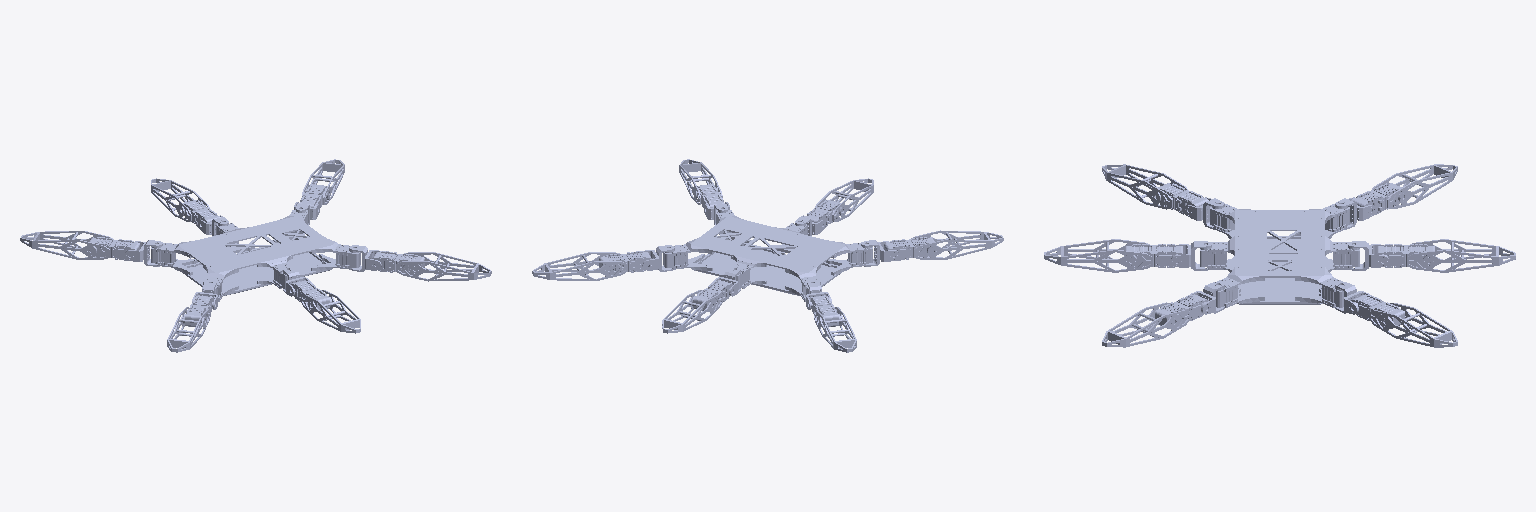
--- Facts derived from the render (not from the file) ---
Views: 3 orthographic renders of the robot side by side, from view 1: azimuth 30°, elevation 25°; view 2: azimuth 150°, elevation 25°; view 3: azimuth 270°, elevation 25°.
Robot: spider_description — 19 links, 18 joints (18 revolute); root link base_link; default pose: all joints at 0.
Links seen in each view (by area): view 1: base_link, link_tibia_rf, link_tibia_lr, link_tibia_rm, link_tibia_lm, link_tibia_rr, link_tibia_lf, link_thigh_lr, link_thigh_rf, link_thigh_rm, link_thigh_rr; view 2: base_link, link_tibia_lf, link_tibia_rr, link_tibia_lm, link_tibia_rm, link_tibia_lr, link_tibia_rf, link_thigh_rr, link_thigh_lf, link_thigh_lm; view 3: base_link, link_tibia_rm, link_tibia_lm, link_tibia_lf, link_tibia_rf, link_tibia_lr, link_tibia_rr, link_thigh_lm, link_thigh_rm, link_thigh_lf, link_thigh_rf, link_thigh_rr (+5 smaller).
Link boxes in pixels (x1,y1,x2,y2): base_link: (151,210,360,301); link_tibia_rf: (396,252,491,281); link_tibia_lr: (20,231,112,259); link_tibia_rm: (301,290,360,333); link_tibia_lm: (151,178,209,221); link_tibia_rr: (167,307,210,352); link_tibia_lf: (302,159,344,204); link_thigh_lr: (87,237,139,260); link_thigh_rf: (372,251,424,274); link_thigh_rm: (291,280,331,310); link_thigh_rr: (183,295,213,326); base_link: (663,210,872,301); link_tibia_lf: (532,252,627,280); link_tibia_rr: (911,230,1003,259); link_tibia_lm: (662,290,722,333); link_tibia_rm: (815,178,873,221); link_tibia_lr: (814,307,856,352); link_tibia_rf: (679,159,722,204); link_thigh_rr: (884,237,936,260); link_thigh_lf: (599,251,651,274); link_thigh_lm: (692,280,732,311); base_link: (1200,204,1359,307); link_tibia_rm: (1044,239,1152,272); link_tibia_lm: (1407,239,1515,272); link_tibia_lf: (1369,303,1457,347); link_tibia_rf: (1102,302,1190,347); link_tibia_lr: (1371,164,1457,208); link_tibia_rr: (1102,164,1188,209); link_thigh_lm: (1377,244,1434,267); link_thigh_rm: (1125,244,1182,267); link_thigh_lf: (1351,294,1404,328); link_thigh_rf: (1155,294,1208,328); link_thigh_rr: (1156,183,1208,215).
Size in the robot's own frame: 0.7578 by 0.843 by 0.057 metres.
Meshes: 19 distinct files referenced, 19 mesh visuals loaded (19 binary STL).

robot.urdf — spider_description:
<?xml version="1.0" encoding="utf-8"?>
<!-- This URDF was automatically created by SolidWorks to URDF Exporter! Originally created by Stephen Brawner ([email redacted]) 
     Commit Version: 1.6.0-1-g15f4949  Build Version: 1.6.7594.29634
     For more information, please see http://wiki.ros.org/sw_urdf_exporter -->
<robot
  name="spider_description">
  <link
    name="base_link">
    <inertial>
      <origin
        xyz="-0.00053062 -0.00014671 -0.024203"
        rpy="0 0 0" />
      <mass
        value="0.61161" />
      <inertia
        ixx="0.0045478"
        ixy="-5.8546E-07"
        ixz="5.8091E-06"
        iyy="0.0078405"
        iyz="1.6098E-06"
        izz="0.012139" />
    </inertial>
    <visual>
      <origin
        xyz="0 0 0"
        rpy="0 0 0" />
      <geometry>
        <mesh
          filename="package://spider_description/meshes/base_link.STL" />
      </geometry>
      <material
        name="">
        <color
          rgba="0.79216 0.81961 0.93333 1" />
      </material>
    </visual>
    <collision>
      <origin
        xyz="0 0 0"
        rpy="0 0 0" />
      <geometry>
        <mesh
          filename="package://spider_description/meshes/base_link.STL" />
      </geometry>
    </collision>
  </link>
  <link
    name="link_c1_lf">
    <inertial>
      <origin
        xyz="0.026 -5.4857E-07 -0.023899"
        rpy="0 0 0" />
      <mass
        value="0.020733" />
      <inertia
        ixx="7.1297E-06"
        ixy="4.048E-11"
        ixz="4.2078E-11"
        iyy="7.0574E-06"
        iyz="-7.4454E-15"
        izz="7.0574E-06" />
    </inertial>
    <visual>
      <origin
        xyz="0 0 0"
        rpy="0 0 0" />
      <geometry>
        <mesh
          filename="package://spider_description/meshes/link_c1_lf.STL" />
      </geometry>
      <material
        name="">
        <color
          rgba="0.79216 0.81961 0.93333 1" />
      </material>
    </visual>
    <collision>
      <origin
        xyz="0 0 0"
        rpy="0 0 0" />
      <geometry>
        <mesh
          filename="package://spider_description/meshes/link_c1_lf.STL" />
      </geometry>
    </collision>
  </link>
  <joint
    name="j_c1_lf"
    type="revolute">
    <origin
      xyz="0.17005 0.11005 0"
      rpy="0 0 0.7854" />
    <parent
      link="base_link" />
    <child
      link="link_c1_lf" />
    <axis
      xyz="0 0 -1" />
    <limit
      lower="-3.1416"
      upper="3.1416"
      effort="6.0"
      velocity="0.524" />
  </joint>
  <link
    name="link_thigh_lf">
    <inertial>
      <origin
        xyz="0.041 -4.7333E-08 -0.024854"
        rpy="0 0 0" />
      <mass
        value="0.095338" />
      <inertia
        ixx="1.5823E-05"
        ixy="-7.1837E-09"
        ixz="2.4429E-07"
        iyy="9.7493E-05"
        iyz="1.7728E-11"
        izz="9.2466E-05" />
    </inertial>
    <visual>
      <origin
        xyz="0 0 0"
        rpy="0 0 0" />
      <geometry>
        <mesh
          filename="package://spider_description/meshes/link_thigh_lf.STL" />
      </geometry>
      <material
        name="">
        <color
          rgba="0.79216 0.81961 0.93333 1" />
      </material>
    </visual>
    <collision>
      <origin
        xyz="0 0 0"
        rpy="0 0 0" />
      <geometry>
        <mesh
          filename="package://spider_description/meshes/link_thigh_lf.STL" />
      </geometry>
    </collision>
  </link>
  <joint
    name="j_thigh_lf"
    type="revolute">
    <origin
      xyz="0.052 0.0239 -0.0239"
      rpy="-1.5708 0 0" />
    <parent
      link="link_c1_lf" />
    <child
      link="link_thigh_lf" />
    <axis
      xyz="0 0 -1" />
    <limit
      lower="-3.1416"
      upper="3.1416"
      effort="6.0"
      velocity="0.524" />
  </joint>
  <link
    name="link_tibia_lf">
    <inertial>
      <origin
        xyz="0.058213 4.8413E-07 -0.02399"
        rpy="0 0 0" />
      <mass
        value="0.027469" />
      <inertia
        ixx="1.3791E-05"
        ixy="-1.8639E-09"
        ixz="2.7079E-09"
        iyy="8.6758E-05"
        iyz="1.5216E-13"
        izz="7.8702E-05" />
    </inertial>
    <visual>
      <origin
        xyz="0 0 0"
        rpy="0 0 0" />
      <geometry>
        <mesh
          filename="package://spider_description/meshes/link_tibia_lf.STL" />
      </geometry>
      <material
        name="">
        <color
          rgba="0.79216 0.81961 0.93333 1" />
      </material>
    </visual>
    <collision>
      <origin
        xyz="0 0 0"
        rpy="0 0 0" />
      <geometry>
        <mesh
          filename="package://spider_description/meshes/link_tibia_lf.STL" />
      </geometry>
    </collision>
  </link>
  <joint
    name="j_tibia_lf"
    type="revolute">
    <origin
      xyz="0.082 0 0"
      rpy="0 0 0" />
    <parent
      link="link_thigh_lf" />
    <child
      link="link_tibia_lf" />
    <axis
      xyz="0 0 -1" />
    <limit
      lower="-3.1416"
      upper="3.1416"
      effort="6.0"
      velocity="0.524" />
  </joint>
  <transmission name="t_c1_lf">
    <type>transmission_interface/SimpleTransmission</type>
    <joint name="j_c1_lf">
      <hardwareInterface>EffortJointInterface</hardwareInterface>
    </joint>
    <actuator name="m_c1_lf">
      <hardwareInterface>EffortJointInterface</hardwareInterface>
      <mechanicalReduction>1</mechanicalReduction>
    </actuator>
  </transmission>
  <transmission name="t_thigh_lf">
    <type>transmission_interface/SimpleTransmission</type>
    <joint name="j_thigh_lf">
      <hardwareInterface>EffortJointInterface</hardwareInterface>
    </joint>
    <actuator name="m_thigh_lf">
      <hardwareInterface>EffortJointInterface</hardwareInterface>
      <mechanicalReduction>1</mechanicalReduction>
    </actuator>
  </transmission>
  <transmission name="t_tibia_lf">
    <type>transmission_interface/SimpleTransmission</type>
    <joint name="j_tibia_lf">
      <hardwareInterface>EffortJointInterface</hardwareInterface>
    </joint>
    <actuator name="m_tibia_lf">
      <hardwareInterface>EffortJointInterface</hardwareInterface>
      <mechanicalReduction>1</mechanicalReduction>
    </actuator>
  </transmission>
  <gazebo reference="c1_lf">
    <material>Gazebo/Grey</material>
  </gazebo>
  <gazebo reference="c2_lf">
    <material>Gazebo/Grey</material>
  </gazebo>
  <gazebo reference="thigh_lf">
    <material>Gazebo/Grey</material>
  </gazebo>
  <gazebo reference="tibia_lf">
    <material>Gazebo/Grey</material>
  </gazebo>
  <link
    name="link_c1_rf">
    <inertial>
      <origin
        xyz="0.0259999991636716 -5.48568285324569E-07 -0.0238994498902422"
        rpy="0 0 0" />
      <mass
        value="0.0207333939617732" />
      <inertia
        ixx="7.12966880670212E-06"
        ixy="4.04797875409359E-11"
        ixz="4.2078214365996E-11"
        iyy="7.05736504437159E-06"
        iyz="-7.44539482746889E-15"
        izz="7.05736451070848E-06" />
    </inertial>
    <visual>
      <origin
        xyz="0 0 0"
        rpy="0 0 0" />
      <geometry>
        <mesh
          filename="package://spider_description/meshes/link_c1_rf.STL" />
      </geometry>
      <material
        name="">
        <color
          rgba="0.792156862745098 0.819607843137255 0.933333333333333 1" />
      </material>
    </visual>
    <collision>
      <origin
        xyz="0 0 0"
        rpy="0 0 0" />
      <geometry>
        <mesh
          filename="package://spider_description/meshes/link_c1_rf.STL" />
      </geometry>
    </collision>
  </link>
  <joint
    name="j_c1_rf"
    type="revolute">
    <origin
      xyz="0.17005 -0.11005 0"
      rpy="0 0 -0.7854" />
    <parent
      link="base_link" />
    <child
      link="link_c1_rf" />
    <axis
      xyz="0 0 -1" />
    <limit
      lower="-3.1416"
      upper="3.1416"
      effort="6.0"
      velocity="0.524" />
  </joint>
  <link
    name="link_thigh_rf">
    <inertial>
      <origin
        xyz="0.0409997696348333 -4.3056425345217E-08 -0.0231455246052306"
        rpy="0 0 0" />
      <mass
        value="0.0953381260778559" />
      <inertia
        ixx="1.58226170665815E-05"
        ixy="7.18370529304474E-09"
        ixz="2.44292690517656E-07"
        iyy="9.74932251034422E-05"
        iyz="-1.77281106948335E-11"
        izz="9.24662892922228E-05" />
    </inertial>
    <visual>
      <origin
        xyz="0 0 0"
        rpy="0 0 0" />
      <geometry>
        <mesh
          filename="package://spider_description/meshes/link_thigh_rf.STL" />
      </geometry>
      <material
        name="">
        <color
          rgba="0.792156862745098 0.819607843137255 0.933333333333333 1" />
      </material>
    </visual>
    <collision>
      <origin
        xyz="0 0 0"
        rpy="0 0 0" />
      <geometry>
        <mesh
          filename="package://spider_description/meshes/link_thigh_rf.STL" />
      </geometry>
    </collision>
  </link>
  <joint
    name="j_thigh_rf"
    type="revolute">
    <origin
      xyz="0.052 0.0239 -0.0239"
      rpy="-1.5708 0 0" />
    <parent
      link="link_c1_rf" />
    <child
      link="link_thigh_rf" />
    <axis
      xyz="0 0 1" />
    <limit
      lower="-3.1416"
      upper="3.1416"
      effort="6.0"
      velocity="0.524" />
  </joint>
  <link
    name="link_tibia_rf">
    <inertial>
      <origin
        xyz="0.0582130928710537 -4.84132053089198E-07 -0.024009755089485"
        rpy="0 0 0" />
      <mass
        value="0.0274685501932794" />
      <inertia
        ixx="1.37907568518751E-05"
        ixy="1.86386884762247E-09"
        ixz="-2.70792447943625E-09"
        iyy="8.67578889959421E-05"
        iyz="1.52160813279096E-13"
        izz="7.87024641434508E-05" />
    </inertial>
    <visual>
      <origin
        xyz="0 0 0"
        rpy="0 0 0" />
      <geometry>
        <mesh
          filename="package://spider_description/meshes/link_tibia_rf.STL" />
      </geometry>
      <material
        name="">
        <color
          rgba="0.792156862745098 0.819607843137255 0.933333333333333 1" />
      </material>
    </visual>
    <collision>
      <origin
        xyz="0 0 0"
        rpy="0 0 0" />
      <geometry>
        <mesh
          filename="package://spider_description/meshes/link_tibia_rf.STL" />
      </geometry>
    </collision>
  </link>
  <joint
    name="j_tibia_rf"
    type="revolute">
    <origin
      xyz="0.082 0 -0.0002"
      rpy="0 0 0" />
    <parent
      link="link_thigh_rf" />
    <child
      link="link_tibia_rf" />
    <axis
      xyz="0 0 1" />
    <limit
      lower="-3.1416"
      upper="3.1416"
      effort="6.0"
      velocity="0.524" />
  </joint>
  <transmission name="t_c1_rf">
    <type>transmission_interface/SimpleTransmission</type>
    <joint name="j_c1_rf">
      <hardwareInterface>EffortJointInterface</hardwareInterface>
    </joint>
    <actuator name="m_c1_rf">
      <hardwareInterface>EffortJointInterface</hardwareInterface>
      <mechanicalReduction>1</mechanicalReduction>
    </actuator>
  </transmission>
  <transmission name="t_thigh_rf">
    <type>transmission_interface/SimpleTransmission</type>
    <joint name="j_thigh_rf">
      <hardwareInterface>EffortJointInterface</hardwareInterface>
    </joint>
    <actuator name="m_thigh_rf">
      <hardwareInterface>EffortJointInterface</hardwareInterface>
      <mechanicalReduction>1</mechanicalReduction>
    </actuator>
  </transmission>
  <transmission name="t_tibia_rf">
    <type>transmission_interface/SimpleTransmission</type>
    <joint name="j_tibia_rf">
      <hardwareInterface>EffortJointInterface</hardwareInterface>
    </joint>
    <actuator name="m_tibia_rf">
      <hardwareInterface>EffortJointInterface</hardwareInterface>
      <mechanicalReduction>1</mechanicalReduction>
    </actuator>
  </transmission>
  <gazebo reference="c1_rf">
    <material>Gazebo/Grey</material>
  </gazebo>
  <gazebo reference="c2_rf">
    <material>Gazebo/Grey</material>
  </gazebo>
  <gazebo reference="thigh_rf">
    <material>Gazebo/Grey</material>
  </gazebo>
  <gazebo reference="tibia_rf">
    <material>Gazebo/Grey</material>
  </gazebo>
  <link
    name="link_c1_lm">
    <inertial>
      <origin
        xyz="0.0259999991636717 -5.48568285352324E-07 -0.0238994498902422"
        rpy="0 0 0" />
      <mass
        value="0.0207333939617732" />
      <inertia
        ixx="7.12966880670212E-06"
        ixy="4.04797875473618E-11"
        ixz="4.20782143633671E-11"
        iyy="7.05736504437159E-06"
        iyz="-7.44539705232163E-15"
        izz="7.0573645107085E-06" />
    </inertial>
    <visual>
      <origin
        xyz="0 0 0"
        rpy="0 0 0" />
      <geometry>
        <mesh
          filename="package://spider_description/meshes/link_c1_lm.STL" />
      </geometry>
      <material
        name="">
        <color
          rgba="0.792156862745098 0.819607843137255 0.933333333333333 1" />
      </material>
    </visual>
    <collision>
      <origin
        xyz="0 0 0"
        rpy="0 0 0" />
      <geometry>
        <mesh
          filename="package://spider_description/meshes/link_c1_lm.STL" />
      </geometry>
    </collision>
  </link>
  <joint
    name="j_c1_lm"
    type="revolute">
    <origin
      xyz="0 0.1325 0"
      rpy="0 0 1.5708" />
    <parent
      link="base_link" />
    <child
      link="link_c1_lm" />
    <axis
      xyz="0 0 -1" />
    <limit
      lower="-3.1416"
      upper="3.1416"
      effort="6.0"
      velocity="0.524" />
  </joint>
  <link
    name="link_thigh_lm">
    <inertial>
      <origin
        xyz="0.0410002223045077 -4.73332562624107E-08 -0.0248544734829103"
        rpy="0 0 0" />
      <mass
        value="0.095338126082866" />
      <inertia
        ixx="1.58226170677638E-05"
        ixy="-7.18370555418024E-09"
        ixz="2.44292690526641E-07"
        iyy="9.74932251095805E-05"
        iyz="1.77281110395446E-11"
        izz="9.24662892972621E-05" />
    </inertial>
    <visual>
      <origin
        xyz="0 0 0"
        rpy="0 0 0" />
      <geometry>
        <mesh
          filename="package://spider_description/meshes/link_thigh_lm.STL" />
      </geometry>
      <material
        name="">
        <color
          rgba="0.792156862745098 0.819607843137255 0.933333333333333 1" />
      </material>
    </visual>
    <collision>
      <origin
        xyz="0 0 0"
        rpy="0 0 0" />
      <geometry>
        <mesh
          filename="package://spider_description/meshes/link_thigh_lm.STL" />
      </geometry>
    </collision>
  </link>
  <joint
    name="j_thigh_lm"
    type="revolute">
    <origin
      xyz="0.052 0.0239 -0.0239"
      rpy="-1.5708 0 0" />
    <parent
      link="link_c1_lm" />
    <child
      link="link_thigh_lm" />
    <axis
      xyz="0 0 -1" />
    <limit
      lower="-3.1416"
      upper="3.1416"
      effort="6.0"
      velocity="0.524" />
  </joint>
  <link
    name="link_tibia_lm">
    <inertial>
      <origin
        xyz="0.0582130929481516 4.84132050920794E-07 -0.0239902443725242"
        rpy="0 0 0" />
      <mass
        value="0.0274685503185618" />
      <inertia
        ixx="1.3790756868961E-05"
        ixy="-1.86386884665518E-09"
        ixz="2.70791984156504E-09"
        iyy="8.67578890897643E-05"
        iyz="1.52161124450007E-13"
        izz="7.87024642322845E-05" />
    </inertial>
    <visual>
      <origin
        xyz="0 0 0"
        rpy="0 0 0" />
      <geometry>
        <mesh
          filename="package://spider_description/meshes/link_tibia_lm.STL" />
      </geometry>
      <material
        name="">
        <color
          rgba="0.792156862745098 0.819607843137255 0.933333333333333 1" />
      </material>
    </visual>
    <collision>
      <origin
        xyz="0 0 0"
        rpy="0 0 0" />
      <geometry>
        <mesh
          filename="package://spider_description/meshes/link_tibia_lm.STL" />
      </geometry>
    </collision>
  </link>
  <joint
    name="j_tibia_lm"
    type="revolute">
    <origin
      xyz="0.082 0 0"
      rpy="0 0 0" />
    <parent
      link="link_thigh_lm" />
    <child
      link="link_tibia_lm" />
    <axis
      xyz="0 0 -1" />
    <limit
      lower="-3.1416"
      upper="3.1416"
      effort="6.0"
      velocity="0.524" />
  </joint>
  <transmission name="t_c1_lm">
    <type>transmission_interface/SimpleTransmission</type>
    <joint name="j_c1_lm">
      <hardwareInterface>EffortJointInterface</hardwareInterface>
    </joint>
    <actuator name="m_c1_lm">
      <hardwareInterface>EffortJointInterface</hardwareInterface>
      <mechanicalReduction>1</mechanicalReduction>
    </actuator>
  </transmission>
  <transmission name="t_thigh_lm">
    <type>transmission_interface/SimpleTransmission</type>
    <joint name="j_thigh_lm">
      <hardwareInterface>EffortJointInterface</hardwareInterface>
    </joint>
    <actuator name="m_thigh_lm">
      <hardwareInterface>EffortJointInterface</hardwareInterface>
      <mechanicalReduction>1</mechanicalReduction>
    </actuator>
  </transmission>
  <transmission name="t_tibia_lm">
    <type>transmission_interface/SimpleTransmission</type>
    <joint name="j_tibia_lm">
      <hardwareInterface>EffortJointInterface</hardwareInterface>
    </joint>
    <actuator name="m_tibia_lm">
      <hardwareInterface>EffortJointInterface</hardwareInterface>
      <mechanicalReduction>1</mechanicalReduction>
    </actuator>
  </transmission>
  <gazebo reference="c1_lm">
    <material>Gazebo/Grey</material>
  </gazebo>
  <gazebo reference="c2_lm">
    <material>Gazebo/Grey</material>
  </gazebo>
  <gazebo reference="thigh_lm">
    <material>Gazebo/Grey</material>
  </gazebo>
  <gazebo reference="tibia_lm">
    <material>Gazebo/Grey</material>
  </gazebo>
  <link
    name="link_c1_rm">
    <inertial>
      <origin
        xyz="0.0259999991636717 -5.48568285324569E-07 -0.0238994498902422"
        rpy="0 0 0" />
      <mass
        value="0.0207333939617732" />
      <inertia
        ixx="7.12966880670213E-06"
        ixy="4.04797875448088E-11"
        ixz="4.20782143673133E-11"
        iyy="7.0573650443716E-06"
        iyz="-7.44539871417393E-15"
        izz="7.05736451070851E-06" />
    </inertial>
    <visual>
      <origin
        xyz="0 0 0"
        rpy="0 0 0" />
      <geometry>
        <mesh
          filename="package://spider_description/meshes/link_c1_rm.STL" />
      </geometry>
      <material
        name="">
        <color
          rgba="0.792156862745098 0.819607843137255 0.933333333333333 1" />
      </material>
    </visual>
    <collision>
      <origin
        xyz="0 0 0"
        rpy="0 0 0" />
      <geometry>
        <mesh
          filename="package://spider_description/meshes/link_c1_rm.STL" />
      </geometry>
    </collision>
  </link>
  <joint
    name="j_c1_rm"
    type="revolute">
    <origin
      xyz="0 -0.1325 0"
      rpy="0 0 -1.5708" />
    <parent
      link="base_link" />
    <child
      link="link_c1_rm" />
    <axis
      xyz="0 0 -1" />
    <limit
      lower="-3.1416"
      upper="3.1416"
      effort="6.0"
      velocity="0.524" />
  </joint>
  <link
    name="link_thigh_rm">
    <inertial>
      <origin
        xyz="0.0409997696348329 -4.30564251890919E-08 -0.0231455246060158"
        rpy="0 0 0" />
      <mass
        value="0.0953381260828659" />
      <inertia
        ixx="1.58226170677638E-05"
        ixy="7.18370555416456E-09"
        ixz="2.44292690526653E-07"
        iyy="9.74932251095806E-05"
        iyz="-1.77281110386843E-11"
        izz="9.24662892972621E-05" />
    </inertial>
    <visual>
      <origin
        xyz="0 0 0"
        rpy="0 0 0" />
      <geometry>
        <mesh
          filename="package://spider_description/meshes/link_thigh_rm.STL" />
      </geometry>
      <material
        name="">
        <color
          rgba="0.792156862745098 0.819607843137255 0.933333333333333 1" />
      </material>
    </visual>
    <collision>
      <origin
        xyz="0 0 0"
        rpy="0 0 0" />
      <geometry>
        <mesh
          filename="package://spider_description/meshes/link_thigh_rm.STL" />
      </geometry>
    </collision>
  </link>
  <joint
    name="j_thigh_rm"
    type="revolute">
    <origin
      xyz="0.052 0.0239 -0.0239"
      rpy="-1.5708 0 0" />
    <parent
      link="link_c1_rm" />
    <child
      link="link_thigh_rm" />
    <axis
      xyz="0 0 1" />
    <limit
      lower="-3.1416"
      upper="3.1416"
      effort="6.0"
      velocity="0.524" />
  </joint>
  <link
    name="link_tibia_rm">
    <inertial>
      <origin
        xyz="0.0582130929481518 -4.84132050920794E-07 -0.0240097551133858"
        rpy="0 0 0" />
      <mass
        value="0.0274685503185618" />
      <inertia
        ixx="1.3790756868961E-05"
        ixy="1.86386884667144E-09"
        ixz="-2.70791984154495E-09"
        iyy="8.67578890897645E-05"
        iyz="1.52161123538455E-13"
        izz="7.87024642322847E-05" />
    </inertial>
    <visual>
      <origin
        xyz="0 0 0"
        rpy="0 0 0" />
      <geometry>
        <mesh
          filename="package://spider_description/meshes/link_tibia_rm.STL" />
      </geometry>
      <material
        name="">
        <color
          rgba="0.792156862745098 0.819607843137255 0.933333333333333 1" />
      </material>
    </visual>
    <collision>
      <origin
        xyz="0 0 0"
        rpy="0 0 0" />
      <geometry>
        <mesh
          filename="package://spider_description/meshes/link_tibia_rm.STL" />
      </geometry>
    </collision>
  </link>
  <joint
    name="j_tibia_rm"
    type="revolute">
    <origin
      xyz="0.082 0 -0.0002"
      rpy="0 0 0" />
    <parent
      link="link_thigh_rm" />
    <child
      link="link_tibia_rm" />
    <axis
      xyz="0 0 1" />
    <limit
      lower="-3.1416"
      upper="3.1416"
      effort="6.0"
      velocity="0.524" />
  </joint>
  <transmission name="t_c1_rm">
    <type>transmission_interface/SimpleTransmission</type>
    <joint name="j_c1_rm">
      <hardwareInterface>EffortJointInterface</hardwareInterface>
    </joint>
    <actuator name="m_c1_rm">
      <hardwareInterface>EffortJointInterface</hardwareInterface>
      <mechanicalReduction>1</mechanicalReduction>
    </actuator>
  </transmission>
  <transmission name="t_thigh_rm">
    <type>transmission_interface/SimpleTransmission</type>
    <joint name="j_thigh_rm">
      <hardwareInterface>EffortJointInterface</hardwareInterface>
    </joint>
    <actuator name="m_thigh_rm">
      <hardwareInterface>EffortJointInterface</hardwareInterface>
      <mechanicalReduction>1</mechanicalReduction>
    </actuator>
  </transmission>
  <transmission name="t_tibia_rm">
    <type>transmission_interface/SimpleTransmission</type>
    <joint name="j_tibia_rm">
      <hardwareInterface>EffortJointInterface</hardwareInterface>
    </joint>
    <actuator name="m_tibia_rm">
      <hardwareInterface>EffortJointInterface</hardwareInterface>
      <mechanicalReduction>1</mechanicalReduction>
    </actuator>
  </transmission>
  <gazebo reference="c1_rm">
    <material>Gazebo/Grey</material>
  </gazebo>
  <gazebo reference="c2_rm">
    <material>Gazebo/Grey</material>
  </gazebo>
  <gazebo reference="thigh_rm">
    <material>Gazebo/Grey</material>
  </gazebo>
  <gazebo reference="tibia_rm">
    <material>Gazebo/Grey</material>
  </gazebo>
  <link
    name="link_c1_lr">
    <inertial>
      <origin
        xyz="0.0259999991636717 -5.48568285296813E-07 -0.0238994498902422"
        rpy="0 0 0" />
      <mass
        value="0.0207333939617732" />
      <inertia
        ixx="7.12966880670214E-06"
        ixy="4.04797875466534E-11"
        ixz="4.20782143616838E-11"
        iyy="7.0573650443716E-06"
        iyz="-7.44539395058958E-15"
        izz="7.0573645107085E-06" />
    </inertial>
    <visual>
      <origin
        xyz="0 0 0"
        rpy="0 0 0" />
      <geometry>
        <mesh
          filename="package://spider_description/meshes/link_c1_lr.STL" />
      </geometry>
      <material
        name="">
        <color
          rgba="0.792156862745098 0.819607843137255 0.933333333333333 1" />
      </material>
    </visual>
    <collision>
      <origin
        xyz="0 0 0"
        rpy="0 0 0" />
      <geometry>
        <mesh
          filename="package://spider_description/meshes/link_c1_lr.STL" />
      </geometry>
    </collision>
  </link>
  <joint
    name="j_c1_lr"
    type="revolute">
    <origin
      xyz="-0.17005 0.11005 0"
      rpy="0 0 2.3562" />
    <parent
      link="base_link" />
    <child
      link="link_c1_lr" />
    <axis
      xyz="0 0 -1" />
    <limit
      lower="-3.1416"
      upper="3.1416"
      effort="6.0"
      velocity="0.524" />
  </joint>
  <link
    name="link_thigh_lr">
    <inertial>
      <origin
        xyz="0.0410002223045074 4.73332563630247E-08 -0.0229455244793161"
        rpy="0 0 0" />
      <mass
        value="0.0953381260778558" />
      <inertia
        ixx="1.58226170665817E-05"
        ixy="7.18370529304538E-09"
        ixz="-2.44292690517702E-07"
        iyy="9.74932251034422E-05"
        iyz="1.77281106944824E-11"
        izz="9.24662892922226E-05" />
    </inertial>
    <visual>
      <origin
        xyz="0 0 0"
        rpy="0 0 0" />
      <geometry>
        <mesh
          filename="package://spider_description/meshes/link_thigh_lr.STL" />
      </geometry>
      <material
        name="">
        <color
          rgba="0.792156862745098 0.819607843137255 0.933333333333333 1" />
      </material>
    </visual>
    <collision>
      <origin
        xyz="0 0 0"
        rpy="0 0 0" />
      <geometry>
        <mesh
          filename="package://spider_description/meshes/link_thigh_lr.STL" />
      </geometry>
    </collision>
  </link>
  <joint
    name="j_thigh_lr"
    type="revolute">
    <origin
      xyz="0.052 0.0239 -0.0239"
      rpy="-1.5708 0 0" />
    <parent
      link="link_c1_lr" />
    <child
      link="link_thigh_lr" />
    <axis
      xyz="0 0 -1" />
    <limit
      lower="-3.1416"
      upper="3.1416"
      effort="6.0"
      velocity="0.524" />
  </joint>
  <link
    name="link_tibia_lr">
    <inertial>
      <origin
        xyz="0.0582130928710534 4.84132053134301E-07 -0.0239902443964251"
        rpy="0 0 0" />
      <mass
        value="0.0274685501932786" />
      <inertia
        ixx="1.3790756851875E-05"
        ixy="-1.8638688477235E-09"
        ixz="2.70792447951079E-09"
        iyy="8.67578889959413E-05"
        iyz="1.52160801072195E-13"
        izz="7.87024641434499E-05" />
    </inertial>
    <visual>
      <origin
        xyz="0 0 0"
        rpy="0 0 0" />
      <geometry>
        <mesh
          filename="package://spider_description/meshes/link_tibia_lr.STL" />
      </geometry>
      <material
        name="">
        <color
          rgba="0.792156862745098 0.819607843137255 0.933333333333333 1" />
      </material>
    </visual>
    <collision>
      <origin
        xyz="0 0 0"
        rpy="0 0 0" />
      <geometry>
        <mesh
          filename="package://spider_description/meshes/link_tibia_lr.STL" />
      </geometry>
    </collision>
  </link>
  <joint
    name="j_tibia_lr"
    type="revolute">
    <origin
      xyz="0.082 0 0.0002"
      rpy="0 0 0" />
    <parent
      link="link_thigh_lr" />
    <child
      link="link_tibia_lr" />
    <axis
      xyz="0 0 -1" />
    <limit
      lower="-3.1416"
      upper="3.1416"
      effort="6.0"
      velocity="0.524" />
  </joint>
  <transmission name="t_c1_lr">
    <type>transmission_interface/SimpleTransmission</type>
    <joint name="j_c1_lr">
      <hardwareInterface>EffortJointInterface</hardwareInterface>
    </joint>
    <actuator name="m_c1_lr">
      <hardwareInterface>EffortJointInterface</hardwareInterface>
      <mechanicalReduction>1</mechanicalReduction>
    </actuator>
  </transmission>
  <transmission name="t_thigh_lr">
    <type>transmission_interface/SimpleTransmission</type>
    <joint name="j_thigh_lr">
      <hardwareInterface>EffortJointInterface</hardwareInterface>
    </joint>
    <actuator name="m_thigh_lr">
      <hardwareInterface>EffortJointInterface</hardwareInterface>
      <mechanicalReduction>1</mechanicalReduction>
    </actuator>
  </transmission>
  <transmission name="t_tibia_lr">
    <type>transmission_interface/SimpleTransmission</type>
    <joint name="j_tibia_lr">
      <hardwareInterface>EffortJointInterface</hardwareInterface>
    </joint>
    <actuator name="m_tibia_lr">
      <hardwareInterface>EffortJointInterface</hardwareInterface>
      <mechanicalReduction>1</mechanicalReduction>
    </actuator>
  </transmission>
  <gazebo reference="c1_lr">
    <material>Gazebo/Grey</material>
  </gazebo>
  <gazebo reference="c2_lr">
    <material>Gazebo/Grey</material>
  </gazebo>
  <gazebo reference="thigh_lr">
    <material>Gazebo/Grey</material>
  </gazebo>
  <gazebo reference="tibia_lr">
    <material>Gazebo/Grey</material>
  </gazebo>
  <gazebo>
    <plugin filename="libgazebo_ros_control.so" name="gazebo_ros_control">
      <robotNamespace>/spider</robotNamespace>
    </plugin>
  </gazebo>
  <link
    name="link_c1_rr">
    <inertial>
      <origin
        xyz="0.0259999997767144 -5.74651279682675E-07 -0.0238994522526252"
        rpy="0 0 0" />
      <mass
        value="0.0207333939617732" />
      <inertia
        ixx="7.12966880670214E-06"
        ixy="4.04797875481767E-11"
        ixz="4.20782143628231E-11"
        iyy="7.0573645107085E-06"
        iyz="-7.44539760155159E-15"
        izz="7.05736504437161E-06" />
    </inertial>
    <visual>
      <origin
        xyz="0 0 0"
        rpy="0 0 0" />
      <geometry>
        <mesh
          filename="package://spider_description/meshes/link_c1_rr.STL" />
      </geometry>
      <material
        name="">
        <color
          rgba="0.792156862745098 0.819607843137255 0.933333333333333 1" />
      </material>
    </visual>
    <collision>
      <origin
        xyz="0 0 0"
        rpy="0 0 0" />
      <geometry>
        <mesh
          filename="package://spider_description/meshes/link_c1_rr.STL" />
      </geometry>
    </collision>
  </link>
  <joint
    name="j_c1_rr"
    type="revolute">
    <origin
      xyz="-0.17005 -0.11005 0"
      rpy="0 0 -2.3562" />
    <parent
      link="base_link" />
    <child
      link="link_c1_rr" />
    <axis
      xyz="0 0 -1" />
    <limit
      lower="-3.1416"
      upper="3.1416"
      effort="6.0"
      velocity="0.524" />
  </joint>
  <link
    name="link_thigh_rr">
    <inertial>
      <origin
        xyz="0.0409997696348332 4.30564253417476E-08 -0.0246544733577803"
        rpy="0 0 0" />
      <mass
        value="0.0953381260778557" />
      <inertia
        ixx="1.58226170665815E-05"
        ixy="-7.18370529304397E-09"
        ixz="-2.4429269051773E-07"
        iyy="9.7493225103442E-05"
        iyz="-1.77281106923076E-11"
        izz="9.24662892922226E-05" />
    </inertial>
    <visual>
      <origin
        xyz="0 0 0"
        rpy="0 0 0" />
      <geometry>
        <mesh
          filename="package://spider_description/meshes/link_thigh_rr.STL" />
      </geometry>
      <material
        name="">
        <color
          rgba="0.792156862745098 0.819607843137255 0.933333333333333 1" />
      </material>
    </visual>
    <collision>
      <origin
        xyz="0 0 0"
        rpy="0 0 0" />
      <geometry>
        <mesh
          filename="package://spider_description/meshes/link_thigh_rr.STL" />
      </geometry>
    </collision>
  </link>
  <joint
    name="j_thigh_rr"
    type="revolute">
    <origin
      xyz="0.052 0.0239 -0.0239"
      rpy="-1.5708 0 0" />
    <parent
      link="link_c1_rr" />
    <child
      link="link_thigh_rr" />
    <axis
      xyz="0 0 1" />
    <limit
      lower="-3.1416"
      upper="3.1416"
      effort="6.0"
      velocity="0.524" />
  </joint>
  <transmission name="t_c1_rr">
    <type>transmission_interface/SimpleTransmission</type>
    <joint name="j_c1_rr">
      <hardwareInterface>EffortJointInterface</hardwareInterface>
    </joint>
    <actuator name="m_c1_rr">
      <hardwareInterface>EffortJointInterface</hardwareInterface>
      <mechanicalReduction>1</mechanicalReduction>
    </actuator>
  </transmission>
  <transmission name="t_thigh_rr">
    <type>transmission_interface/SimpleTransmission</type>
    <joint name="j_thigh_rr">
      <hardwareInterface>EffortJointInterface</hardwareInterface>
    </joint>
    <actuator name="m_thigh_rr">
      <hardwareInterface>EffortJointInterface</hardwareInterface>
      <mechanicalReduction>1</mechanicalReduction>
    </actuator>
  </transmission>
  <transmission name="t_tibia_rr">
    <type>transmission_interface/SimpleTransmission</type>
    <joint name="j_tibia_rr">
      <hardwareInterface>EffortJointInterface</hardwareInterface>
    </joint>
    <actuator name="m_tibia_rr">
      <hardwareInterface>EffortJointInterface</hardwareInterface>
      <mechanicalReduction>1</mechanicalReduction>
    </actuator>
  </transmission>
  <gazebo reference="c1_rr">
    <material>Gazebo/Grey</material>
  </gazebo>
  <gazebo reference="c2_rr">
    <material>Gazebo/Grey</material>
  </gazebo>
  <gazebo reference="thigh_rr">
    <material>Gazebo/Grey</material>
  </gazebo>
  <gazebo reference="tibia_rr">
    <material>Gazebo/Grey</material>
  </gazebo>
  <link
    name="link_tibia_rr">
    <inertial>
      <origin
        xyz="0.0582130928710512 -4.84132053127362E-07 -0.0240097550894846"
        rpy="0 0 0" />
      <mass
        value="0.027468550193276" />
      <inertia
        ixx="1.37907568518746E-05"
        ixy="1.86386884771011E-09"
        ixz="-2.70792447954213E-09"
        iyy="8.67578889959391E-05"
        iyz="1.52160813778019E-13"
        izz="7.87024641434475E-05" />
    </inertial>
    <visual>
      <origin
        xyz="0 0 0"
        rpy="0 0 0" />
      <geometry>
        <mesh
          filename="package://spider_description/meshes/link_tibia_rr.STL" />
      </geometry>
      <material
        name="">
        <color
          rgba="0.792156862745098 0.819607843137255 0.933333333333333 1" />
      </material>
    </visual>
    <collision>
      <origin
        xyz="0 0 0"
        rpy="0 0 0" />
      <geometry>
        <mesh
          filename="package://spider_description/meshes/link_tibia_rr.STL" />
      </geometry>
    </collision>
  </link>
  <joint
    name="j_tibia_rr"
    type="revolute">
    <origin
      xyz="0.082 0 0.0004"
      rpy="0 0 0" />
    <parent
      link="link_thigh_rr" />
    <child
      link="link_tibia_rr" />
    <axis
      xyz="0 0 1" />
    <limit
      lower="-3.1416"
      upper="3.1416"
      effort="6.0"
      velocity="0.524" />
  </joint>



<gazebo>
    <plugin name="gazebo_ros_control" filename="libgazebo_ros_imu.so">
      <!-- <robotNamespace></robotNamespace> -->
      <topicName>/spider/gyroscope_data</topicName>
      <serviceName>imu/service</serviceName>
      <bodyName>base_link</bodyName>
      <gaussianNoise>0</gaussianNoise>
      <rpyOffsets>0 0 0</rpyOffsets>
      <updateRate>30.0</updateRate>
      <alwaysOn>true</alwaysOn>
      <gaussianNoise>0</gaussianNoise>
    </plugin>
  </gazebo>


    <gazebo reference="link_tibia_rr">
      <mu1>100.0</mu1>
      <mu2>100.0</mu2>

    </gazebo>

    <gazebo reference="link_tibia_rm">
      <mu1>100.0</mu1>
      <mu2>100.0</mu2>

    </gazebo>


    <gazebo reference="link_tibia_rf">
      <mu1>100.0</mu1>
      <mu2>100.0</mu2>
 </gazebo>

    <gazebo reference="link_tibia_lr">
      <mu1>100.0</mu1>
      <mu2>100.0</mu2>

    </gazebo>
    <gazebo reference="link_tibia_lm">
      <mu1>100.0</mu1>
      <mu2>100.0</mu2>

    </gazebo>


    <gazebo reference="link_tibia_lf">
      <mu1>100.0</mu1>
      <mu2>100.0</mu2>

    </gazebo>
</robot>
